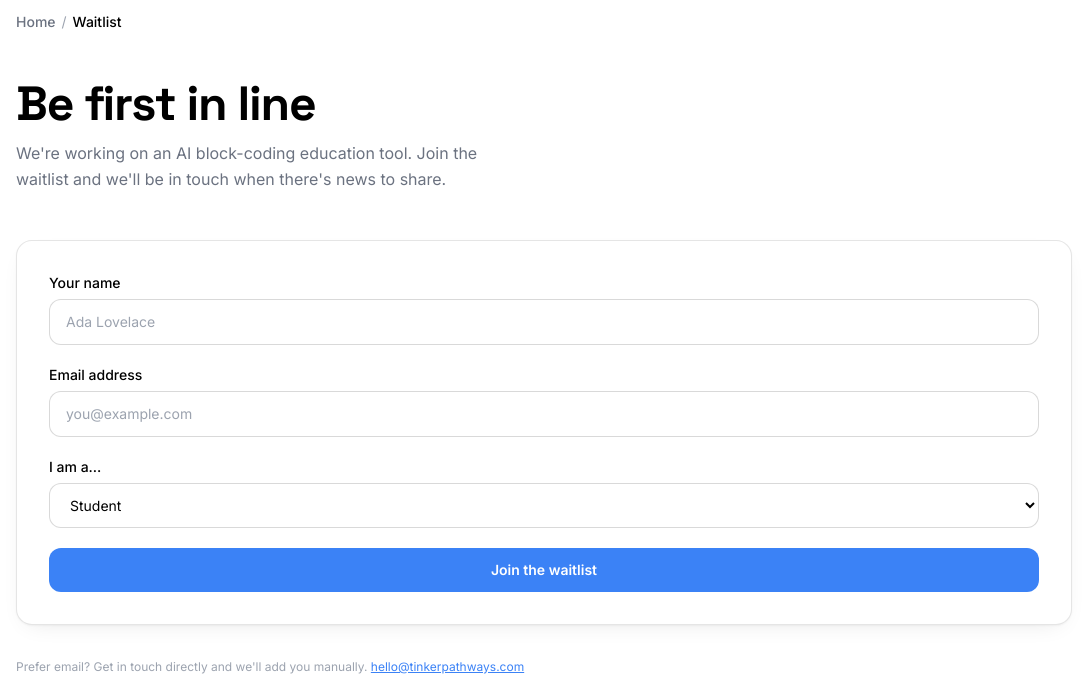
Test: Waitlist page › shows the success state on valid submit
This screenshot has width=1089, height=691.
Type "Ada" into the field labelled "Your name" at (544, 322), box [49,299,1039,345]
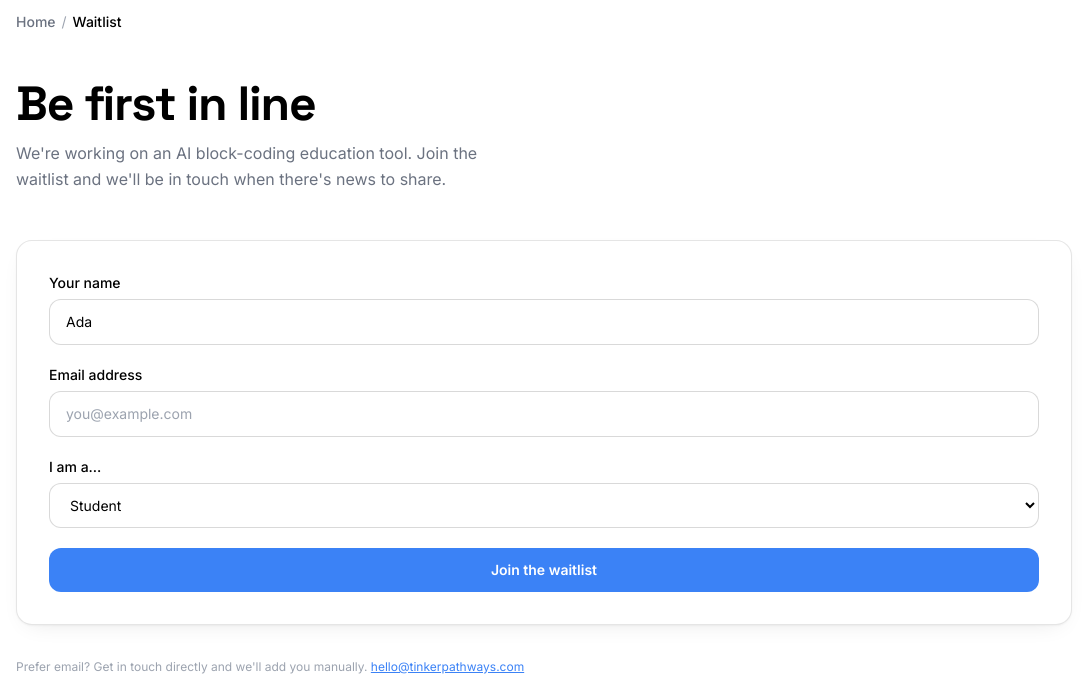
Type "ada@example.com" into the field labelled "Email address" at (544, 414), box [49,391,1039,437]
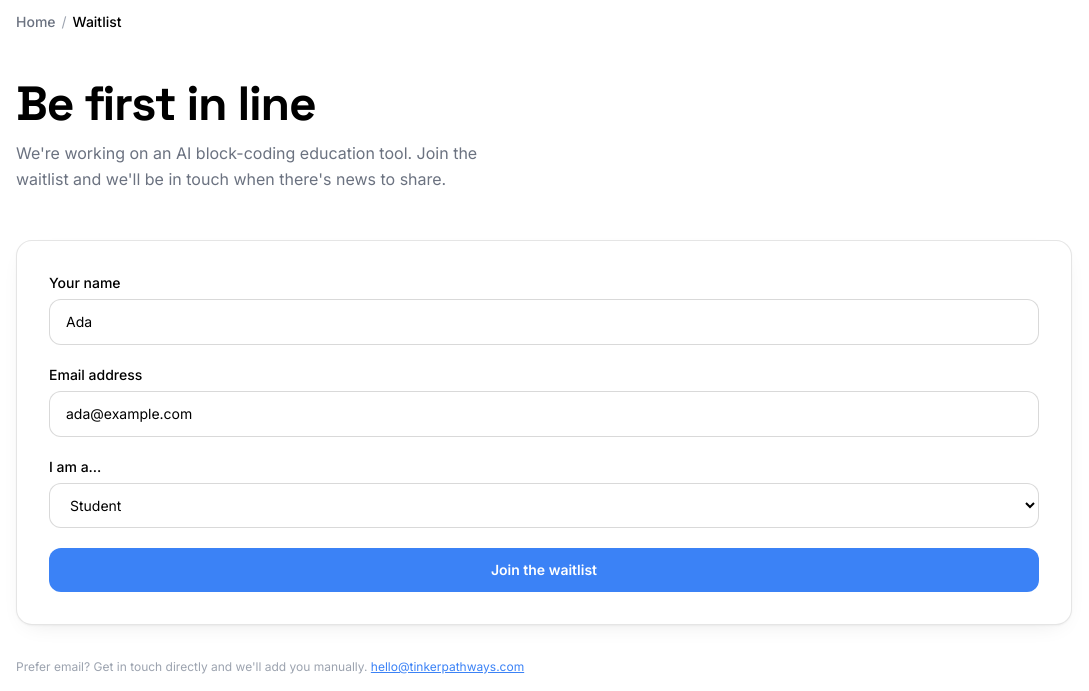
Click the button "Join the waitlist" at (544, 570), box [49,548,1039,592]
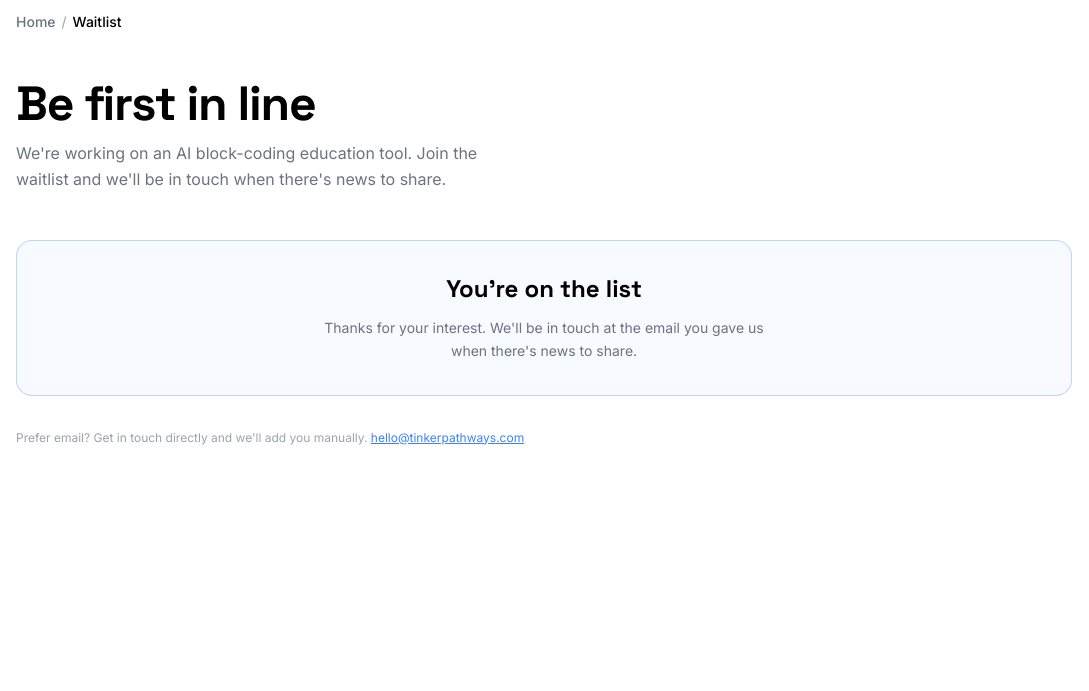
Check: the heading "You're on the list" is shown, box [446,273,642,304]
